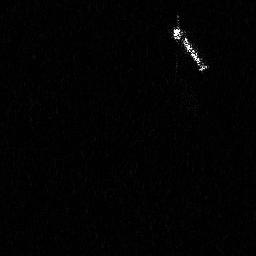ship: (170, 24, 208, 72)
